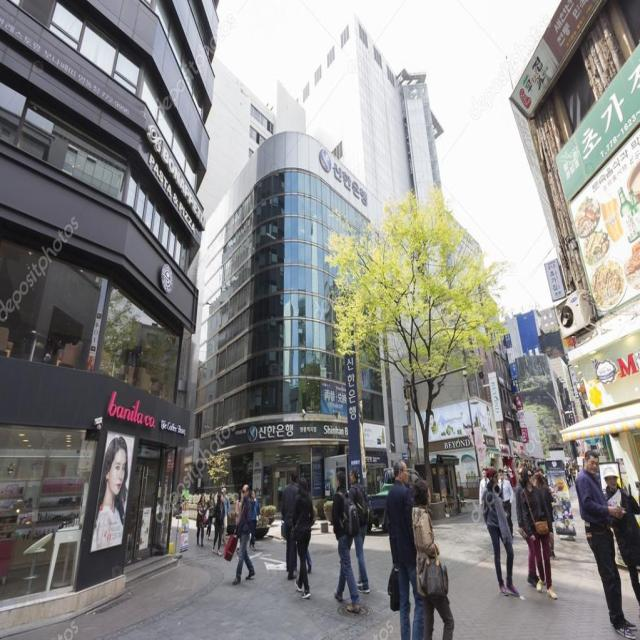body: (574, 449, 638, 638), (386, 457, 426, 640), (411, 478, 455, 639), (518, 468, 558, 602), (602, 466, 640, 606), (482, 466, 520, 596), (331, 470, 362, 614), (95, 434, 129, 550), (345, 466, 371, 593), (289, 476, 314, 598), (515, 468, 540, 590), (232, 483, 256, 586), (280, 471, 300, 581), (533, 472, 556, 559), (295, 482, 313, 574), (497, 468, 514, 540), (211, 492, 226, 556), (248, 488, 262, 551), (219, 486, 231, 545), (195, 494, 207, 546), (562, 457, 580, 490), (204, 491, 216, 540), (482, 402, 496, 439), (422, 408, 439, 438), (478, 466, 490, 507), (366, 470, 383, 494), (234, 489, 244, 529), (121, 351, 136, 376), (503, 464, 514, 488), (486, 462, 497, 479), (522, 459, 543, 467), (529, 466, 543, 478), (516, 461, 522, 478), (543, 464, 548, 484)
